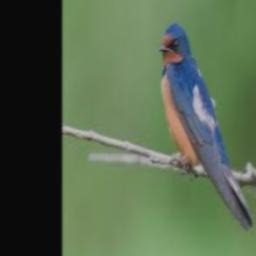Swallow: (159, 25, 253, 230)
